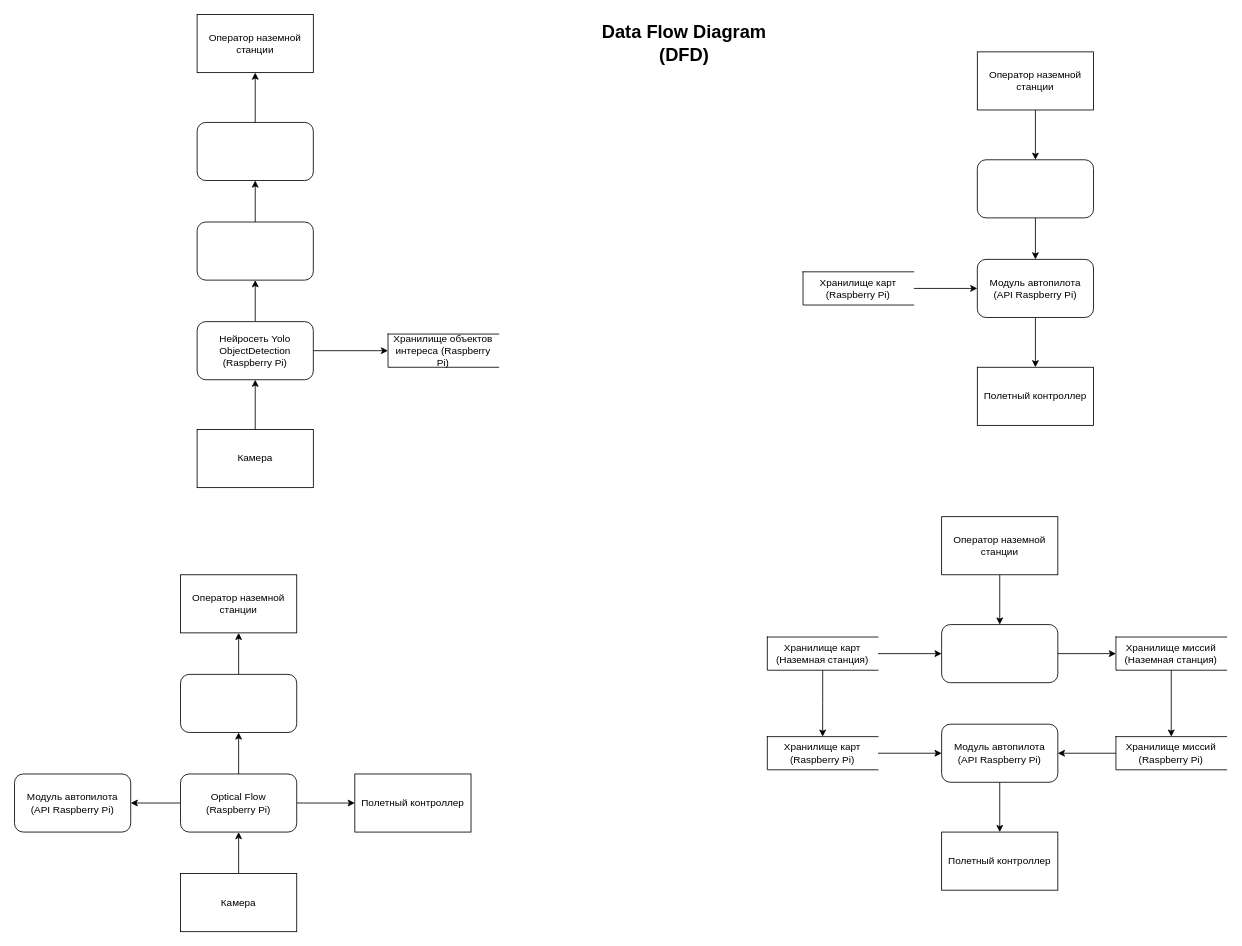
This 1242x946 diagram has some shape labels left out. Here are the shapes that lost their labels. From the top down, the box of each, then its label:
(196, 122, 313, 181): Модуль видеотрансляции (Web интерфейс React)
(976, 159, 1094, 218): Модуль отправки команд управления (Web интерфейс React)
(196, 221, 313, 280): WebRTC (Raspberry Pi)
(941, 624, 1058, 683): Модуль работы с картой (Web интерфейс React)
(180, 674, 297, 732): Модуль подключения к дрону (Web интерфейс React)
